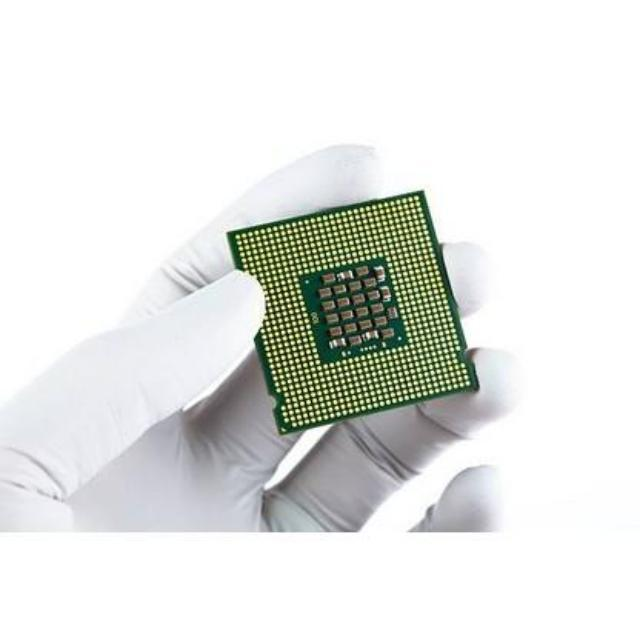CPU: (217, 186, 477, 434)
